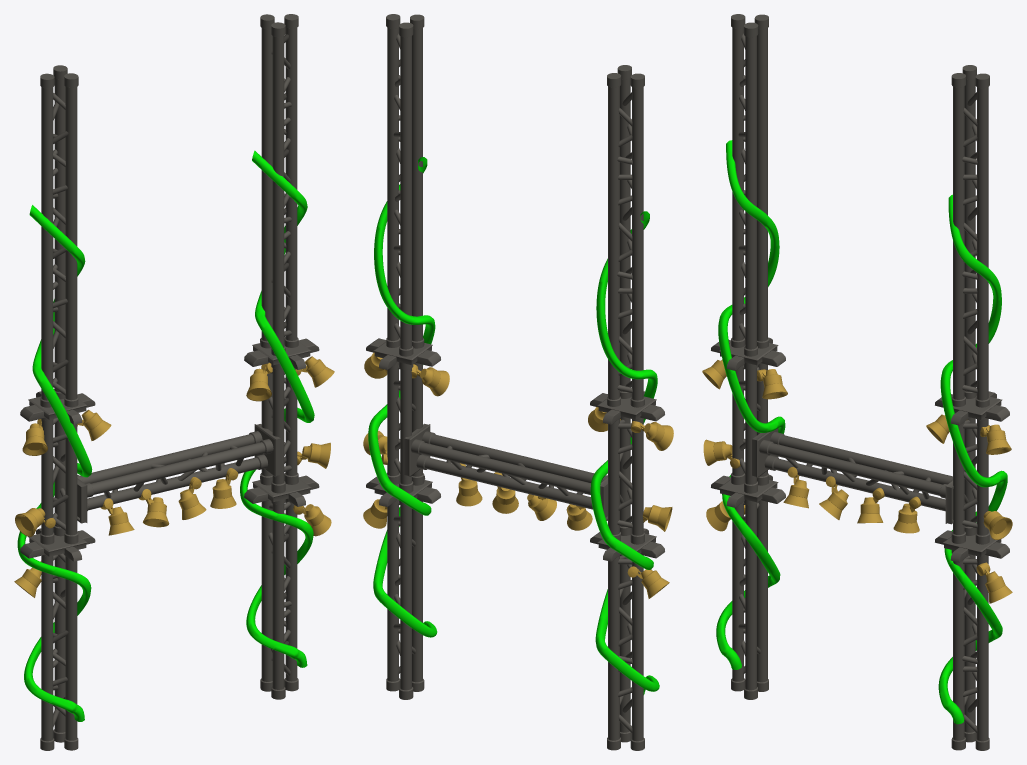
The model's file is StageLightStands_Color.fbx.
3 renders of one model, left to right at view 1: azimuth 30°, elevation 25°; view 2: azimuth 150°, elevation 25°; view 3: azimuth 330°, elevation 25°, orthographic.
Parts seen in each view (by area): view 1: extrudedSurface2, extrudedSurface1, pCylinder171, pCylinder82, pCylinder174, pCylinder14 (×2), pCylinder83, pCylinder84, pCylinder81 (×2), Light (×5), pCylinder172, pCylinder80 (×2) (+15 smaller); view 2: extrudedSurface2, extrudedSurface1, pCylinder174, pCylinder84, pCylinder172, pCylinder83, pCylinder80 (×2), pCylinder82, pCylinder81 (×2), pCylinder14 (×2), pCylinder171, Light (×4) (+15 smaller); view 3: extrudedSurface2, extrudedSurface1, pCylinder83, pCylinder171, pCylinder82, pCylinder172, pCylinder14 (×2), pCylinder174, pCylinder81 (×2), pCylinder80 (×2), pCylinder84, pCylinder151 (+15 smaller).
Boxes of the visible parts, <box> form: extrudedSurface2: <box>240,150,314,667</box>; extrudedSurface1: <box>17,205,92,721</box>; pCylinder171: <box>64,73,78,407</box>; pCylinder82: <box>271,22,285,355</box>; pCylinder174: <box>40,73,54,407</box>; pCylinder14 (×2): <box>85,363,285,497</box>; pCylinder83: <box>284,14,298,347</box>; pCylinder84: <box>260,14,274,348</box>; pCylinder81 (×2): <box>87,368,298,510</box>; Light (×5): <box>143,368,331,536</box>; pCylinder172: <box>53,65,67,399</box>; pCylinder80 (×2): <box>77,373,272,485</box>; extrudedSurface2: <box>368,157,437,637</box>; extrudedSurface1: <box>590,211,659,694</box>; pCylinder174: <box>630,73,644,407</box>; pCylinder84: <box>399,22,413,356</box>; pCylinder172: <box>607,73,621,406</box>; pCylinder83: <box>386,14,400,347</box>; pCylinder80 (×2): <box>399,362,590,494</box>; pCylinder82: <box>410,14,424,348</box>; pCylinder81 (×2): <box>386,361,592,509</box>; pCylinder14 (×2): <box>412,362,607,485</box>; pCylinder171: <box>617,65,631,398</box>; Light (×4): <box>420,367,592,530</box>; extrudedSurface2: <box>938,194,1007,724</box>; extrudedSurface1: <box>716,140,785,669</box>; pCylinder83: <box>975,73,989,407</box>; pCylinder171: <box>744,22,758,356</box>; pCylinder82: <box>951,73,965,406</box>; pCylinder172: <box>754,14,768,348</box>; pCylinder14 (×2): <box>759,422,965,543</box>; pCylinder174: <box>731,14,745,347</box>; pCylinder81 (×2): <box>764,417,989,544</box>; pCylinder80 (×2): <box>770,417,976,535</box>; pCylinder84: <box>962,65,976,398</box>; pCylinder151: <box>744,499,757,699</box>.
Size of the model in its own units: 8.05 by 16.67 by 1.87.
